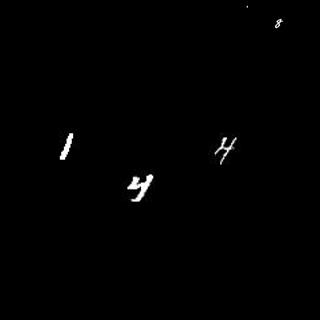dot: (243, 2, 252, 10)
eight: (273, 18, 284, 29)
four: (124, 170, 158, 207), (214, 136, 244, 164)
one: (57, 130, 74, 161)
